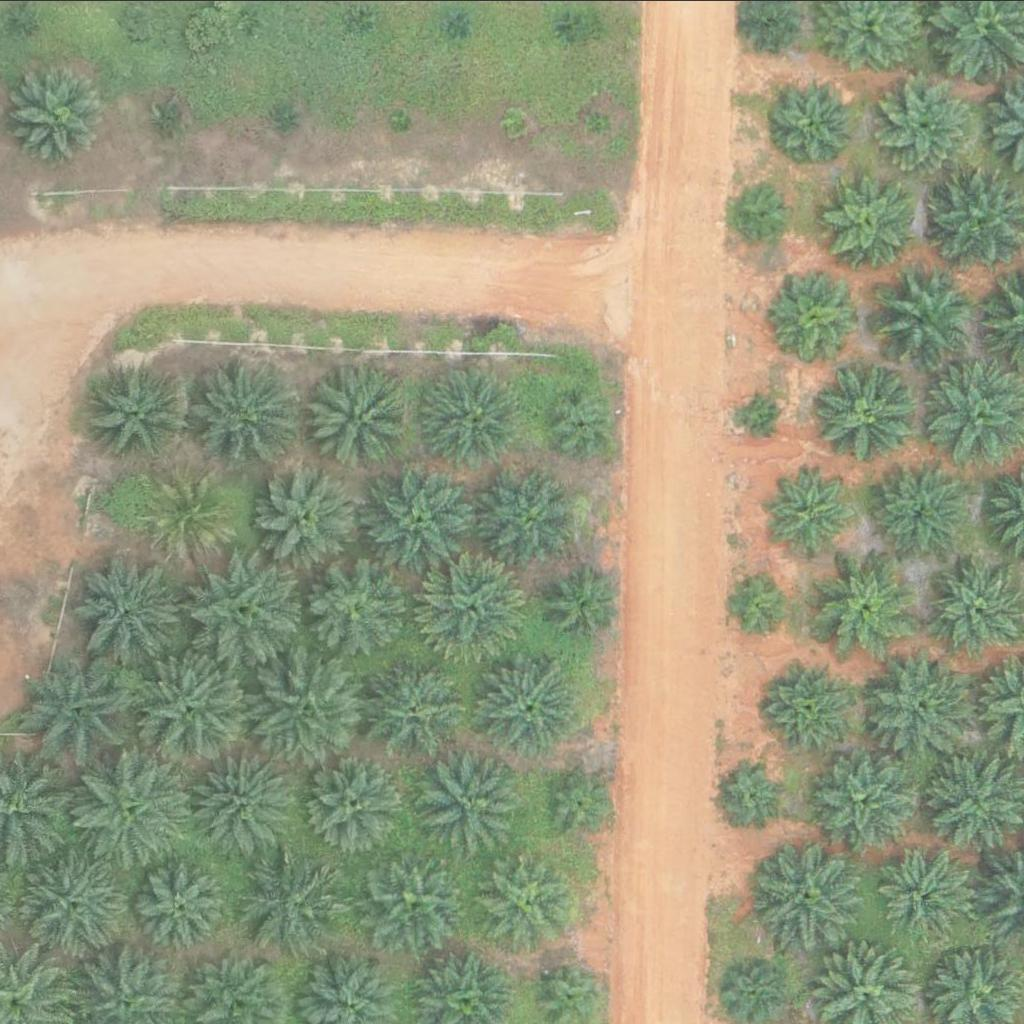Kelapa_Sawit: (72, 548, 186, 661), (188, 550, 302, 663), (23, 650, 137, 763), (361, 461, 474, 574), (129, 651, 243, 763), (422, 549, 535, 661), (187, 354, 300, 466), (254, 654, 367, 766), (76, 751, 189, 863), (21, 847, 134, 959), (87, 364, 188, 464), (479, 467, 580, 567), (370, 658, 471, 758), (477, 654, 578, 754), (193, 752, 294, 852), (306, 751, 407, 851), (415, 751, 516, 851), (238, 852, 339, 952), (364, 850, 465, 950), (476, 850, 577, 950), (755, 841, 856, 941), (876, 847, 977, 947), (812, 750, 913, 850), (869, 655, 970, 755), (816, 553, 917, 653), (868, 461, 969, 561), (878, 78, 979, 178), (307, 369, 407, 469), (421, 364, 521, 464), (260, 463, 360, 563), (310, 557, 410, 657), (813, 361, 913, 461), (871, 266, 971, 366), (150, 470, 238, 558), (768, 468, 856, 556), (823, 175, 911, 263), (772, 76, 860, 164), (140, 863, 228, 950), (765, 657, 853, 744), (777, 270, 865, 357), (543, 383, 619, 458), (549, 565, 624, 640), (543, 761, 618, 836), (724, 960, 787, 1023), (722, 761, 785, 823), (723, 575, 786, 637), (735, 180, 798, 242), (743, 393, 781, 430), (240, 4, 265, 29), (356, 10, 381, 35), (160, 104, 185, 129), (273, 104, 298, 129), (391, 108, 416, 133), (503, 112, 528, 137), (587, 109, 612, 134), (445, 9, 470, 34), (555, 16, 580, 41)
